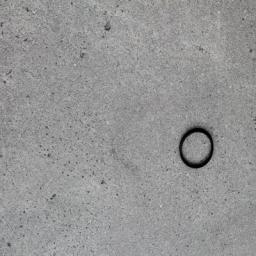FOD: (176, 125, 220, 171)
